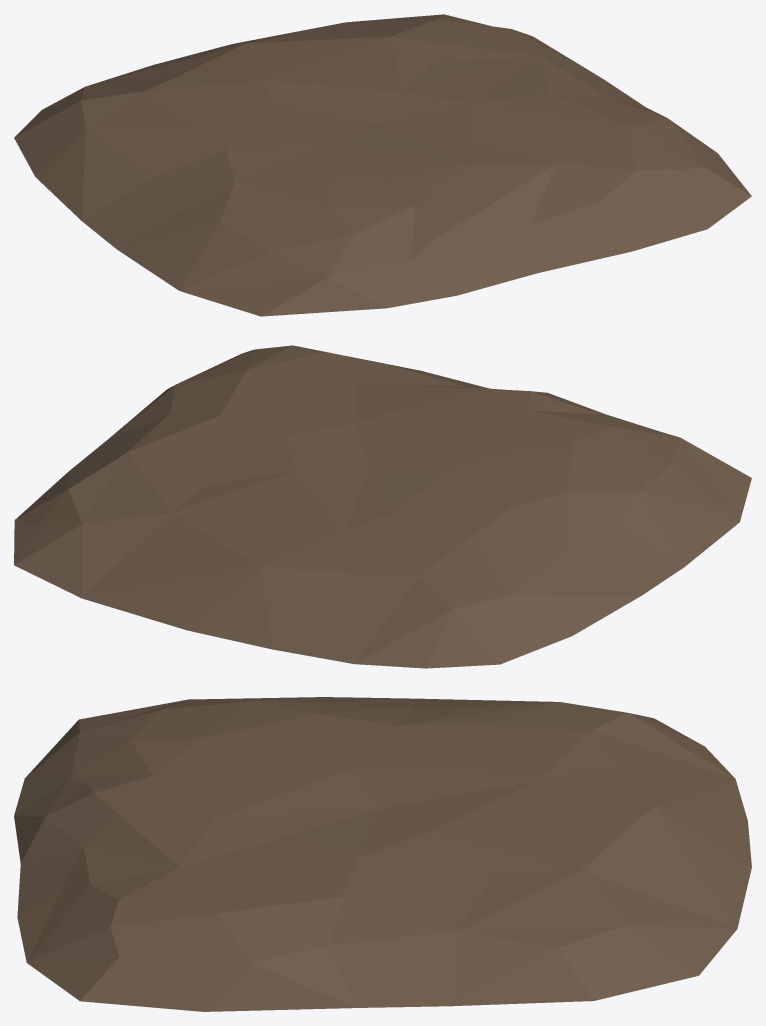
Rendered from SM_Env_Ground_Dirt_Small_01.glb.
3 renders of one model, top to bottom at view 1: azimuth 30°, elevation 25°; view 2: azimuth 150°, elevation 25°; view 3: azimuth 270°, elevation 25°, orthographic. The views are drawn at different scales.
Parts seen in each view (by area): view 1: SM_Env_Ground_Dirt_Small_01; view 2: SM_Env_Ground_Dirt_Small_01; view 3: SM_Env_Ground_Dirt_Small_01.
Part boxes in pixels (x1,y1,x2,y2): SM_Env_Ground_Dirt_Small_01: (14, 14, 751, 316); SM_Env_Ground_Dirt_Small_01: (14, 345, 751, 668); SM_Env_Ground_Dirt_Small_01: (14, 697, 751, 1011).
Size of the model in its own units: 372 by 29.25 by 368.
1 material, 1 textured.
